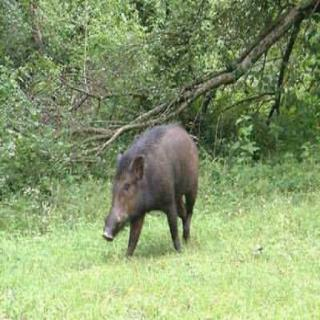Pig: (68, 93, 215, 245)
